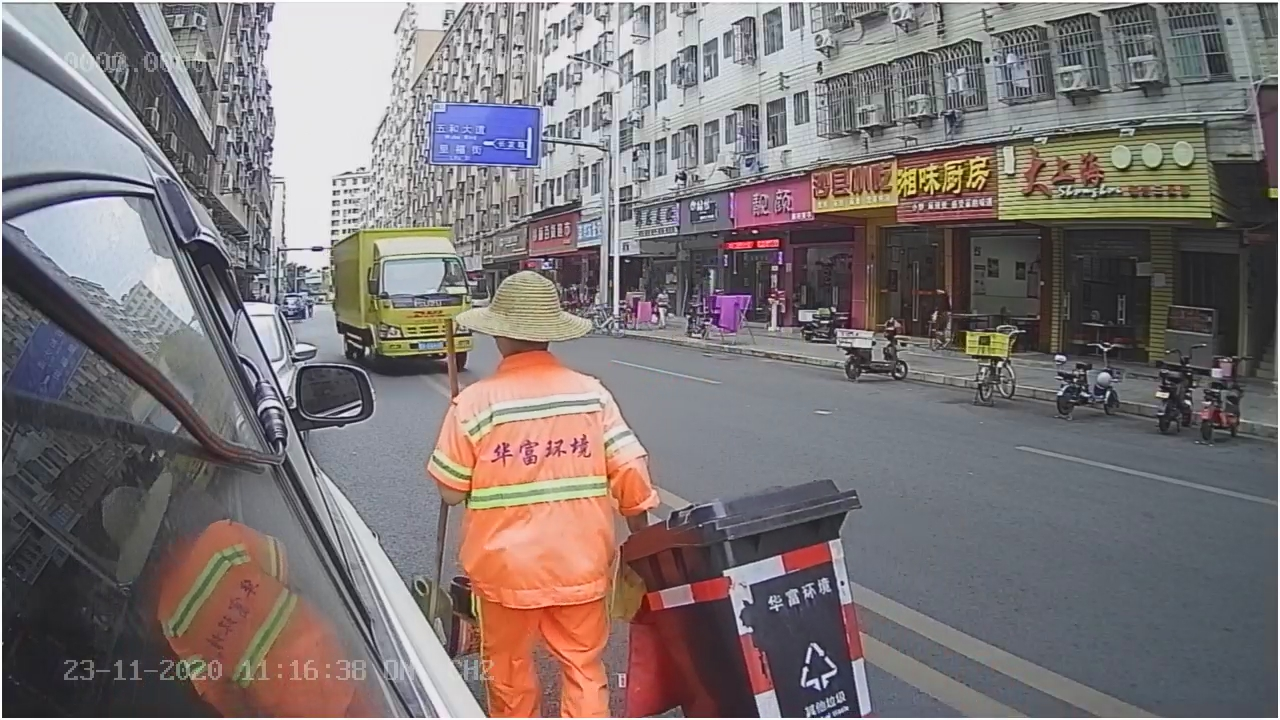person: (454, 270, 663, 526)
